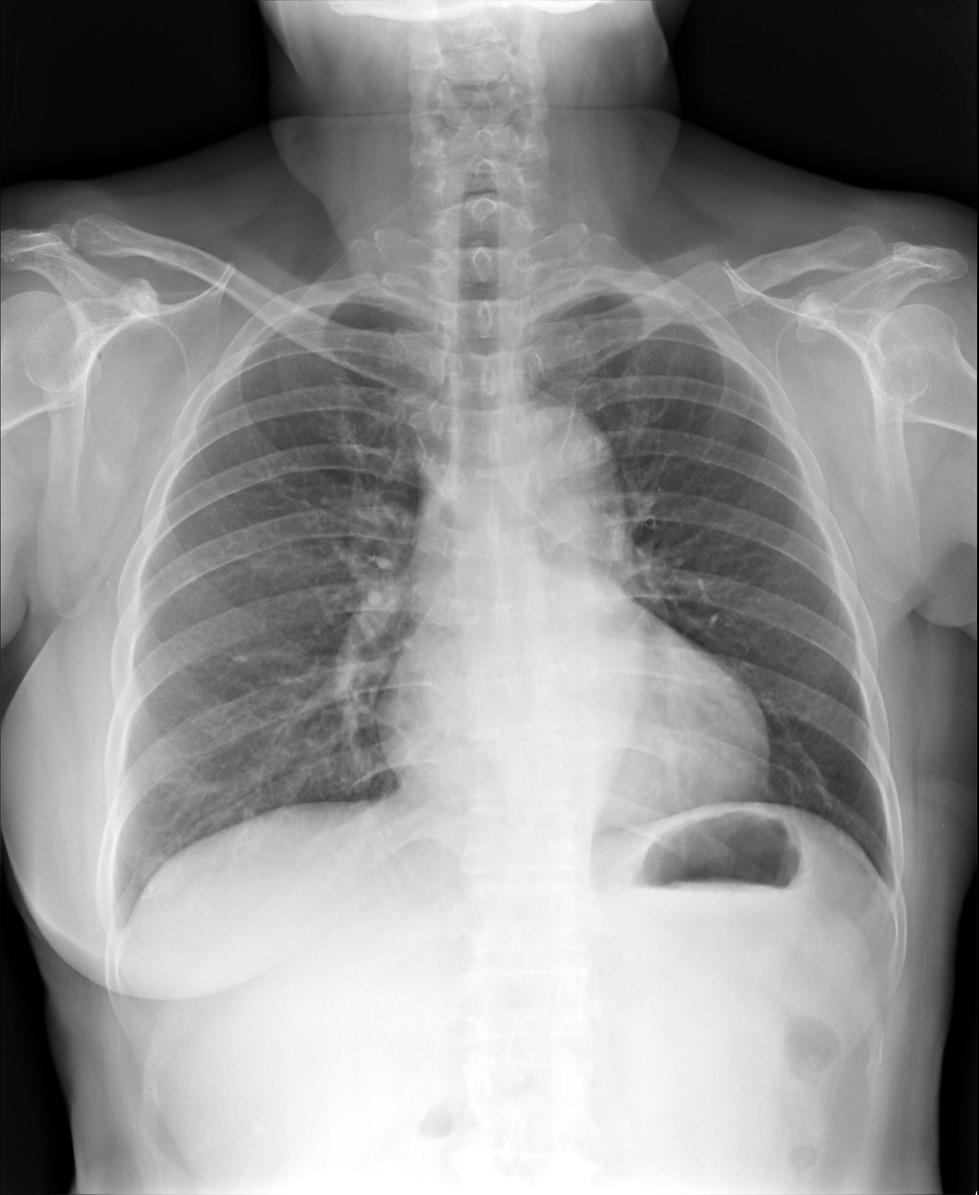Aortic enlargement: (490, 412, 622, 565)
